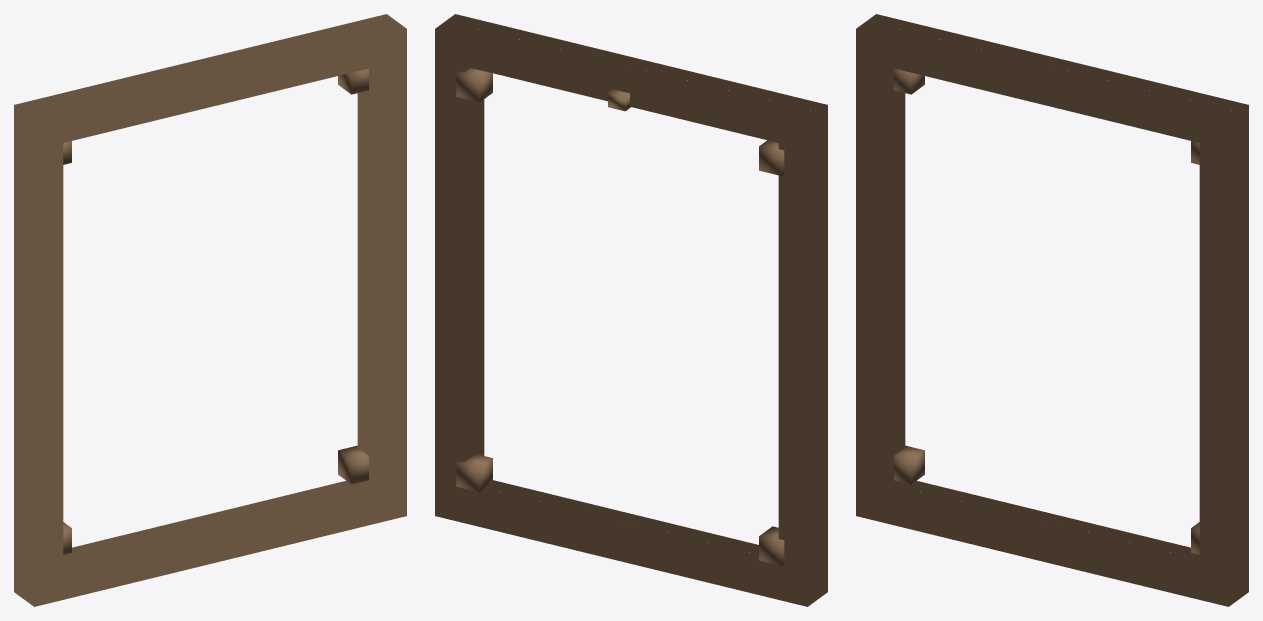
Rendered from PortraitFrame2.glb.
3 renders of one model, left to right at view 1: azimuth 30°, elevation 25°; view 2: azimuth 150°, elevation 25°; view 3: azimuth 330°, elevation 25°, orthographic.
Parts seen in each view (by area): view 1: PictureFrame_Game; view 2: PictureFrame_Game; view 3: PictureFrame_Game.
Boxes of the visible parts, x1=… form: PictureFrame_Game: x1=14, y1=14, x2=406, y2=606; PictureFrame_Game: x1=435, y1=14, x2=827, y2=606; PictureFrame_Game: x1=856, y1=14, x2=1248, y2=606.
Bounding box in the file's own units: 0.8 × 1 × 0.0925.
